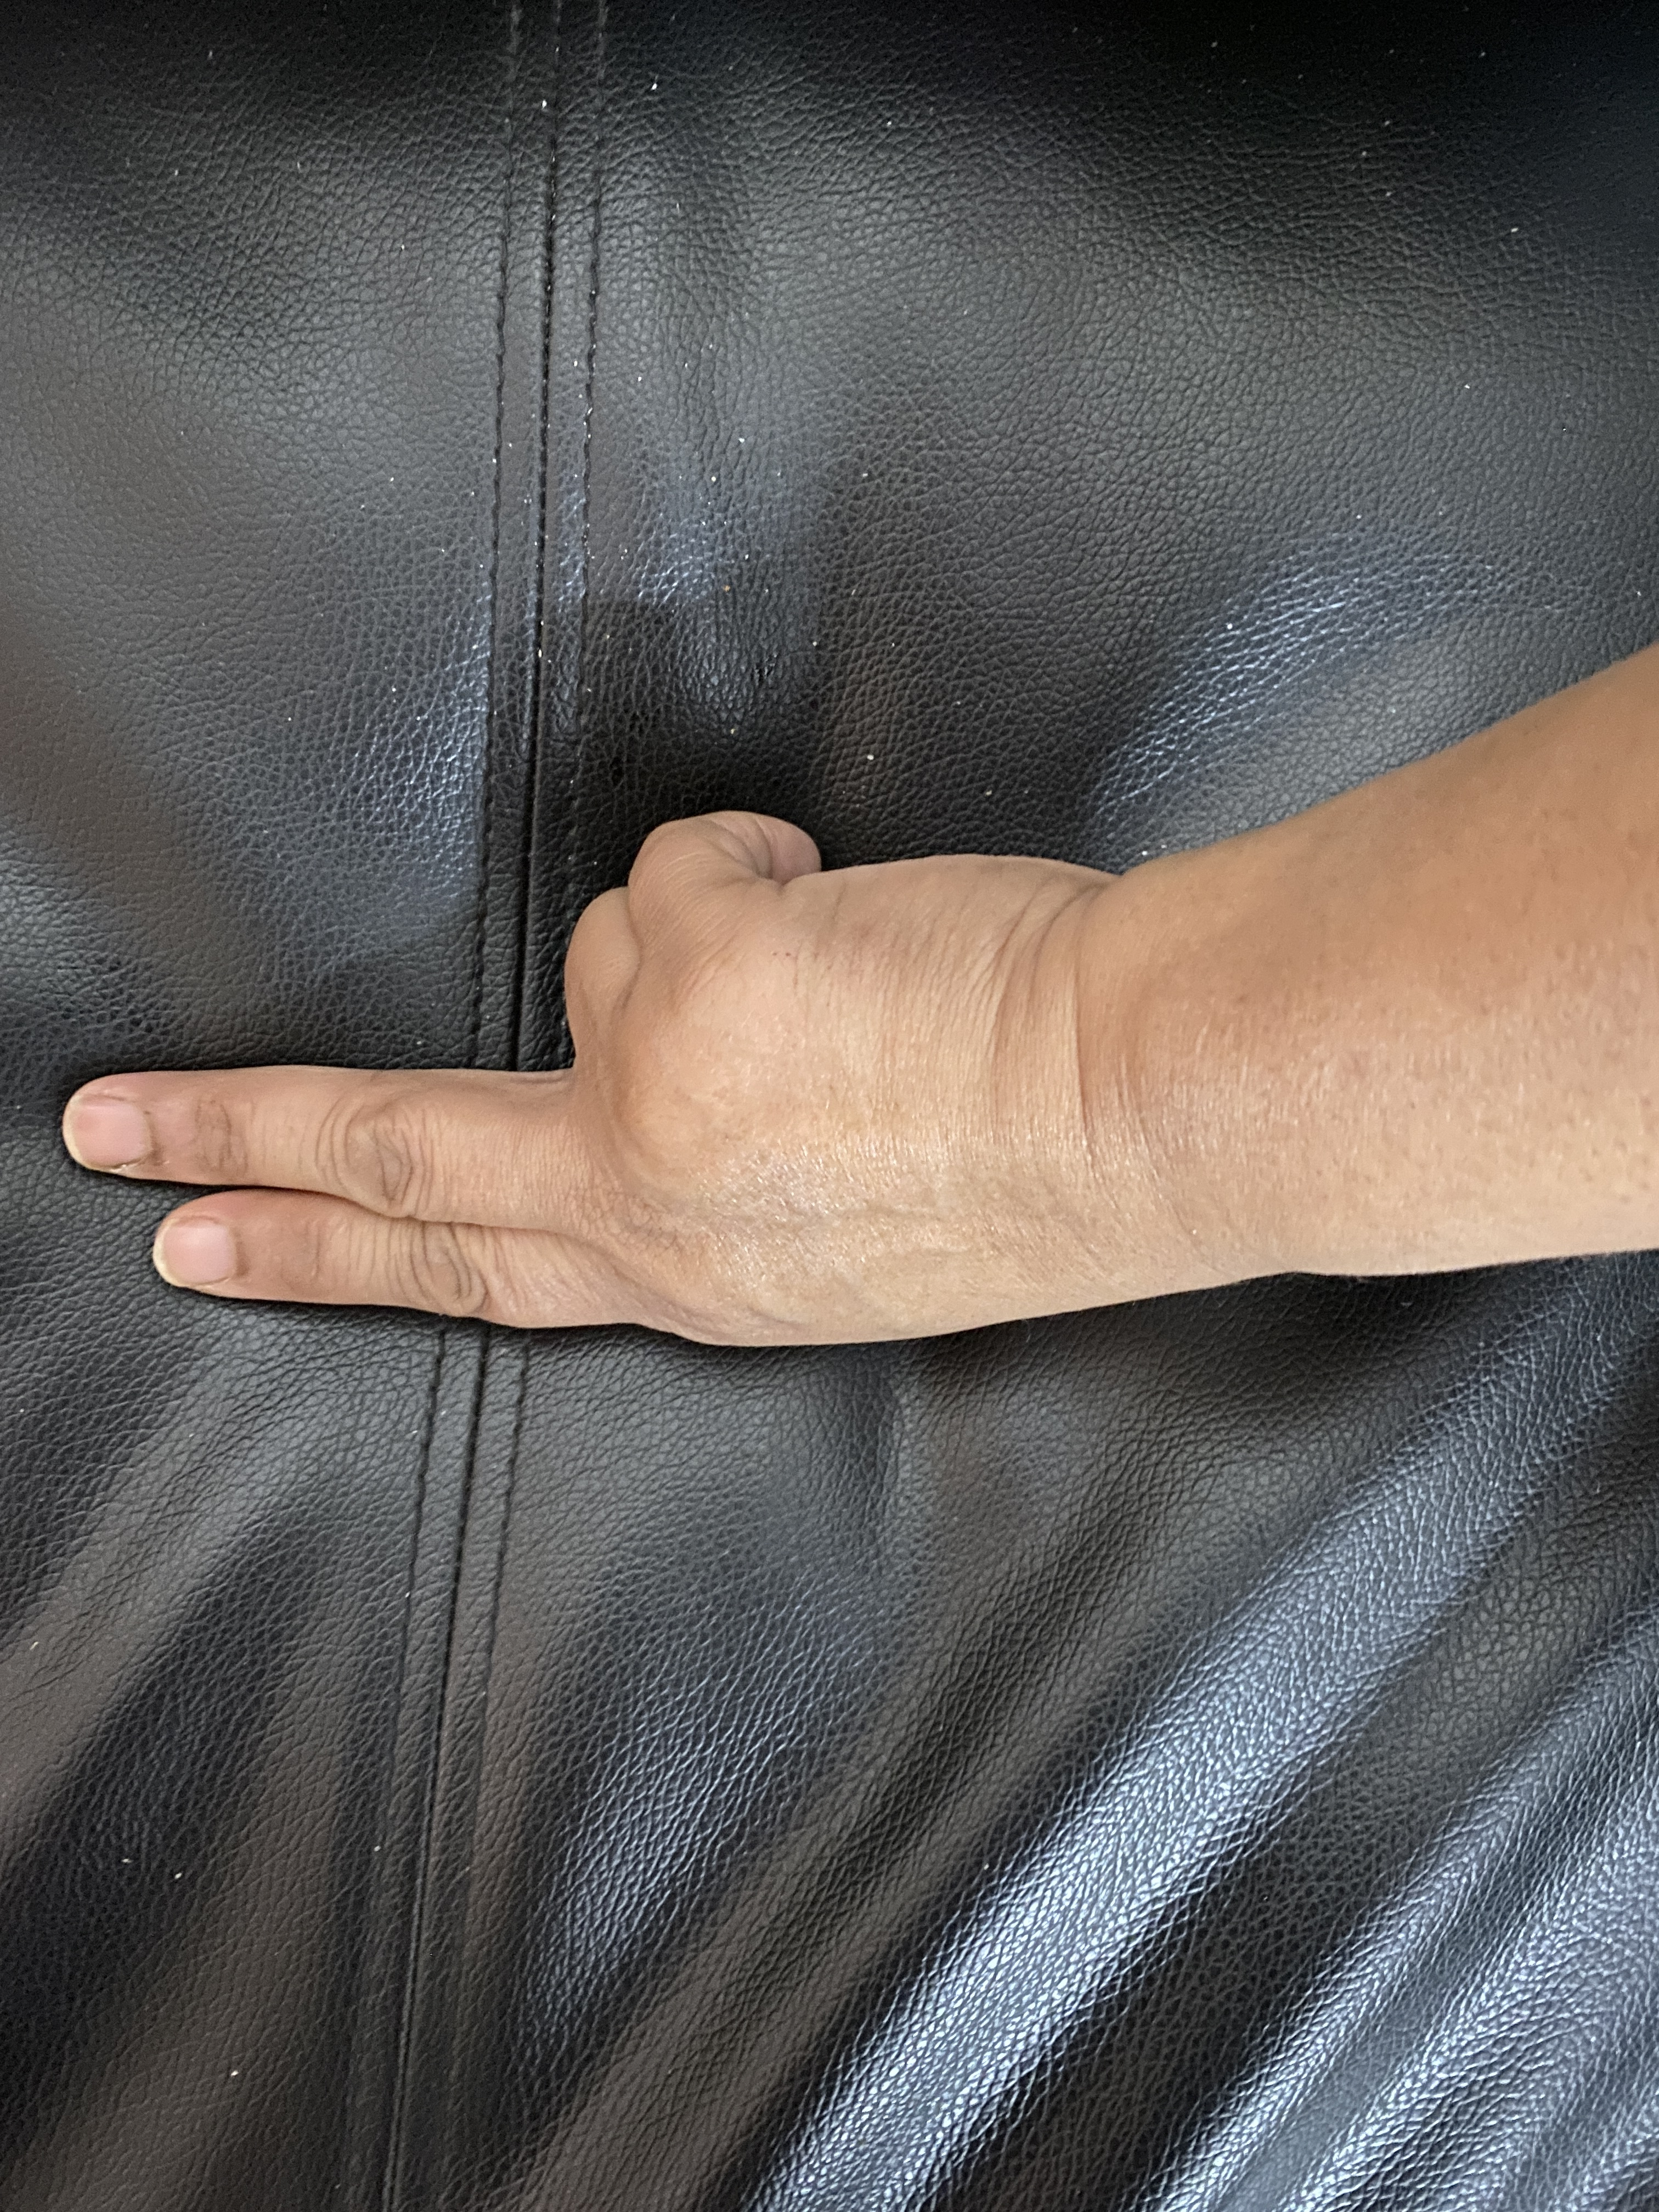right: (73, 493, 1509, 1625)
